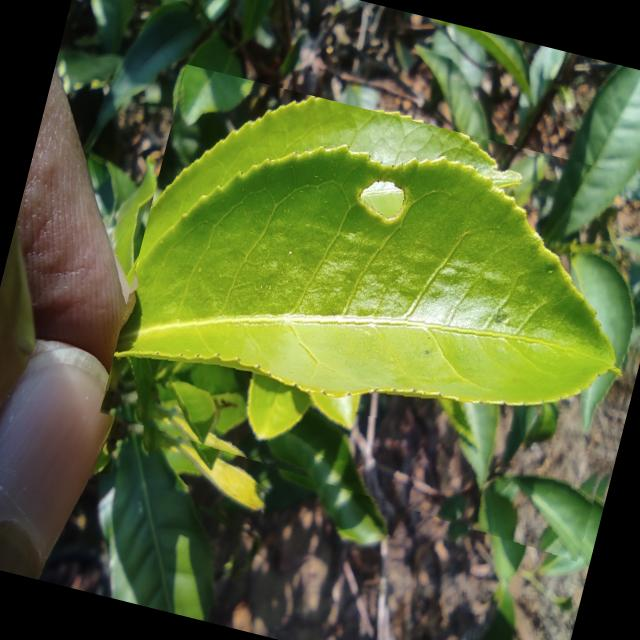Category C 4-7 days: (91, 63, 640, 564)
